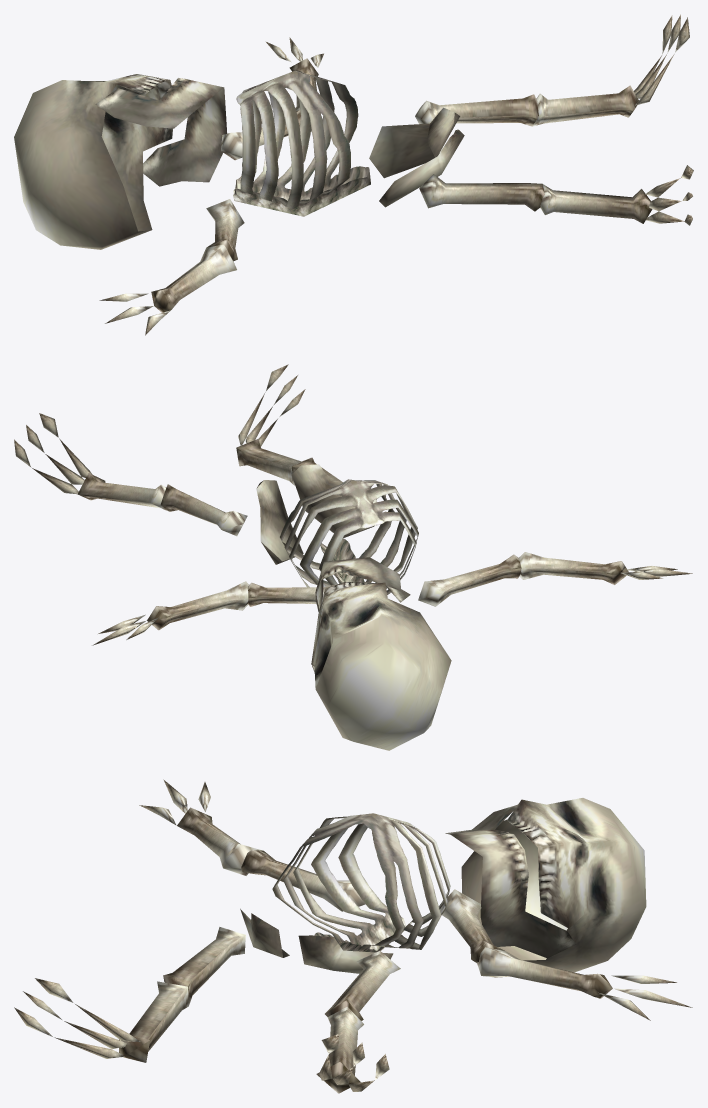
The model's file is gnomefemaledeathskeleton.obj.
3 renders of one model, top to bottom at view 1: azimuth 30°, elevation 25°; view 2: azimuth 150°, elevation 25°; view 3: azimuth 270°, elevation 25°, orthographic. The views are drawn at different scales.
Parts seen in each view (by area): view 1: gnomefemaledeathskeleton; view 2: gnomefemaledeathskeleton; view 3: gnomefemaledeathskeleton.
Boxes of the visible parts, bbox=[...] form: gnomefemaledeathskeleton: bbox=[14, 14, 693, 335]; gnomefemaledeathskeleton: bbox=[14, 364, 692, 750]; gnomefemaledeathskeleton: bbox=[14, 779, 692, 1093].
Bounding box in the file's own units: 1.04 × 0.3154 × 0.8674.
